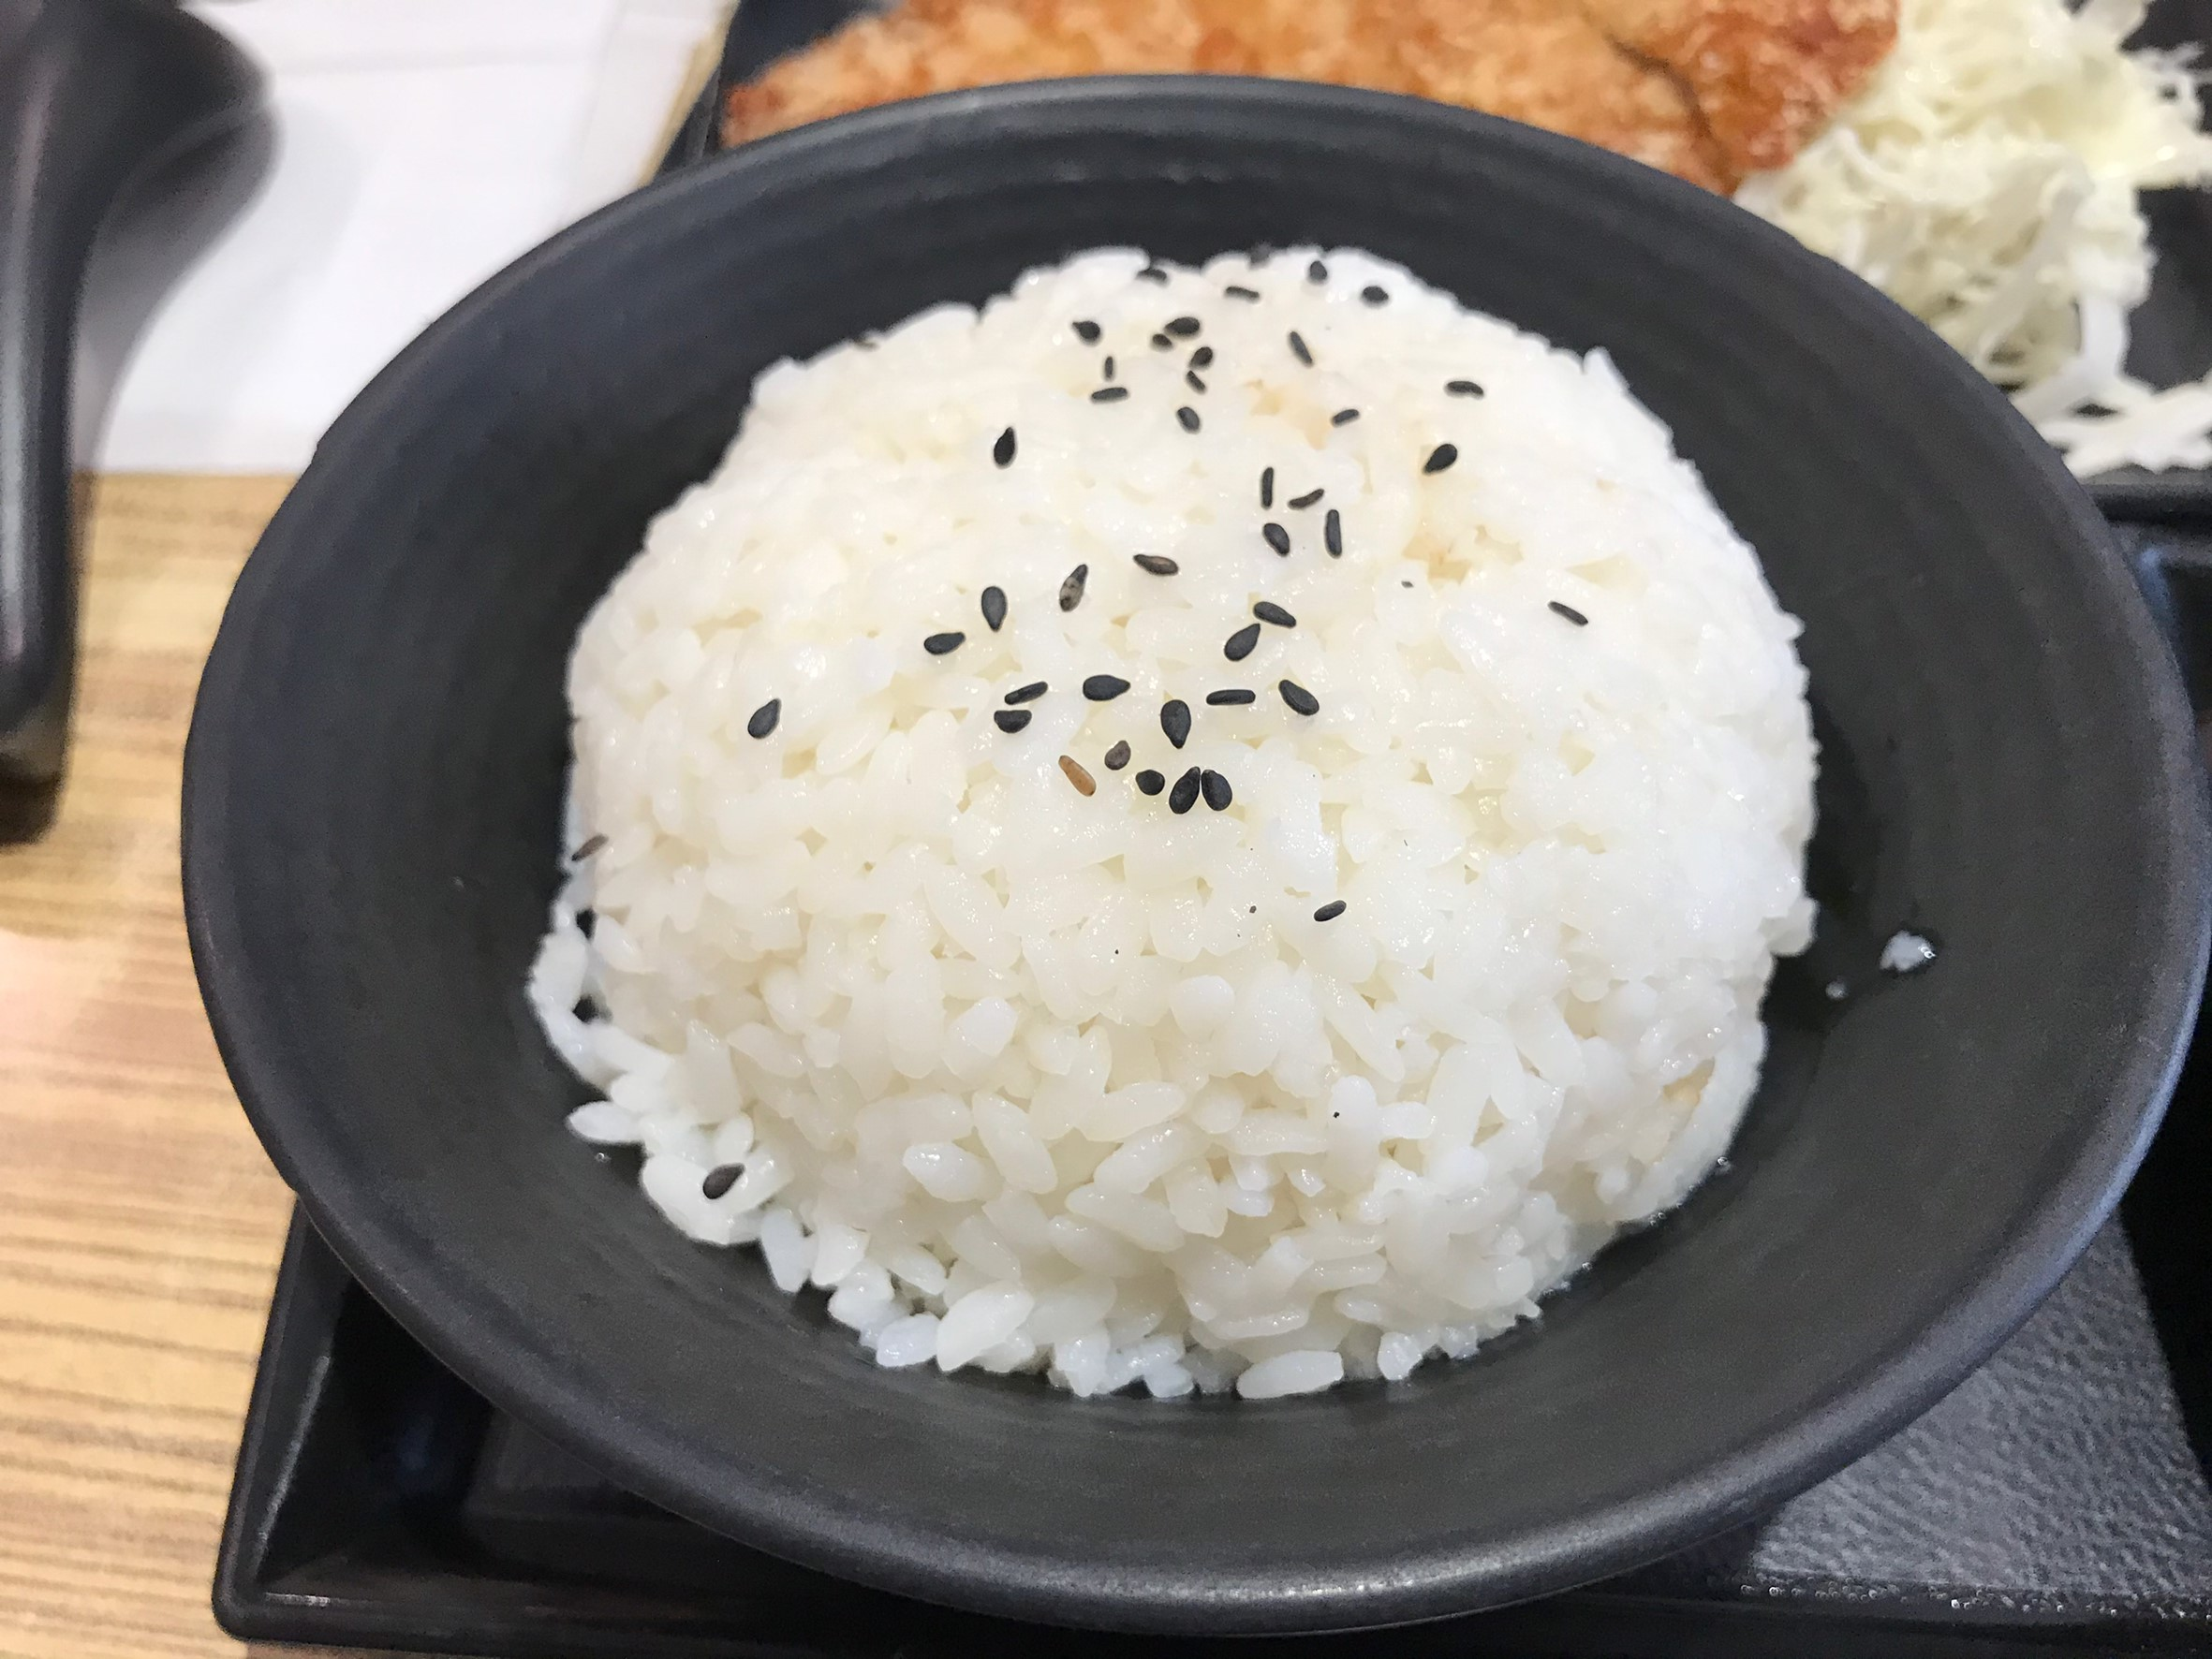rice: (514, 228, 1853, 1417)
